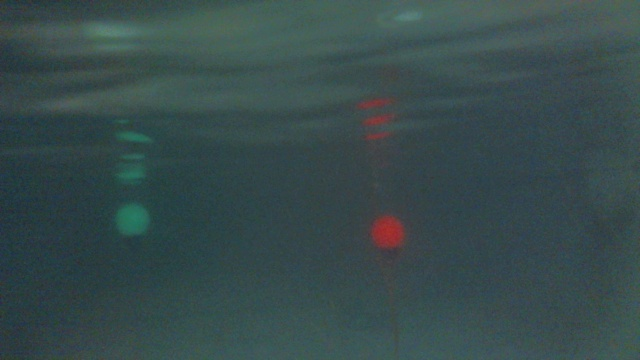buoy_green: (111, 200, 150, 252)
buoy_red: (373, 214, 404, 255)
